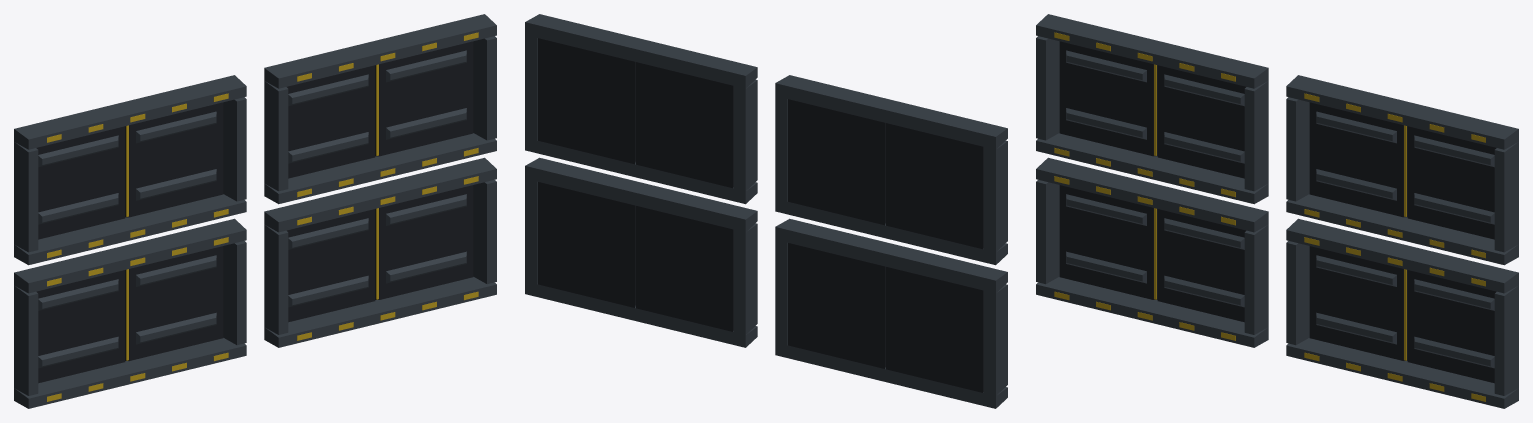
File: ap4_doors.obj
The picture shows the model from 3 angles, left to right: view 1: azimuth 30°, elevation 25°; view 2: azimuth 150°, elevation 25°; view 3: azimuth 330°, elevation 25°; orthographic projection.
Visible parts, largest first — view 1: ap4_doors; view 2: ap4_doors; view 3: ap4_doors.
Boxes of the visible parts, x1=… form: ap4_doors: x1=14, y1=14, x2=496, y2=408; ap4_doors: x1=525, y1=14, x2=1007, y2=408; ap4_doors: x1=1036, y1=14, x2=1518, y2=408.
Bounding box in the file's own units: 9.6 × 5.3 × 0.473.
